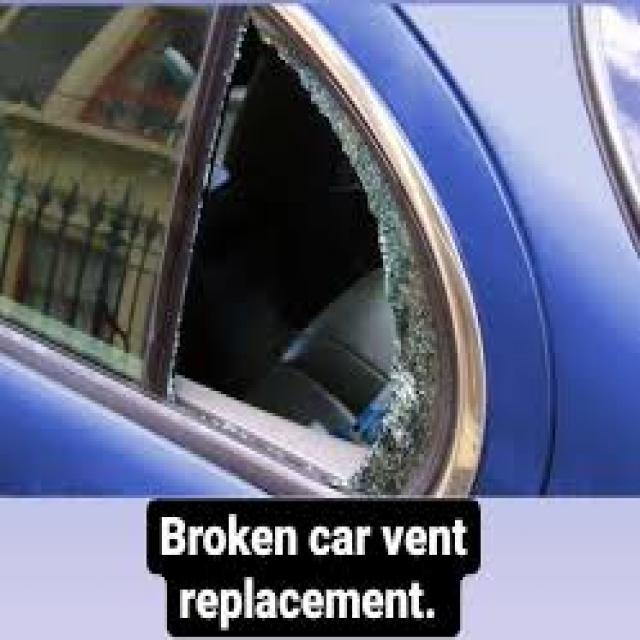damaged-window: (174, 10, 464, 498)
